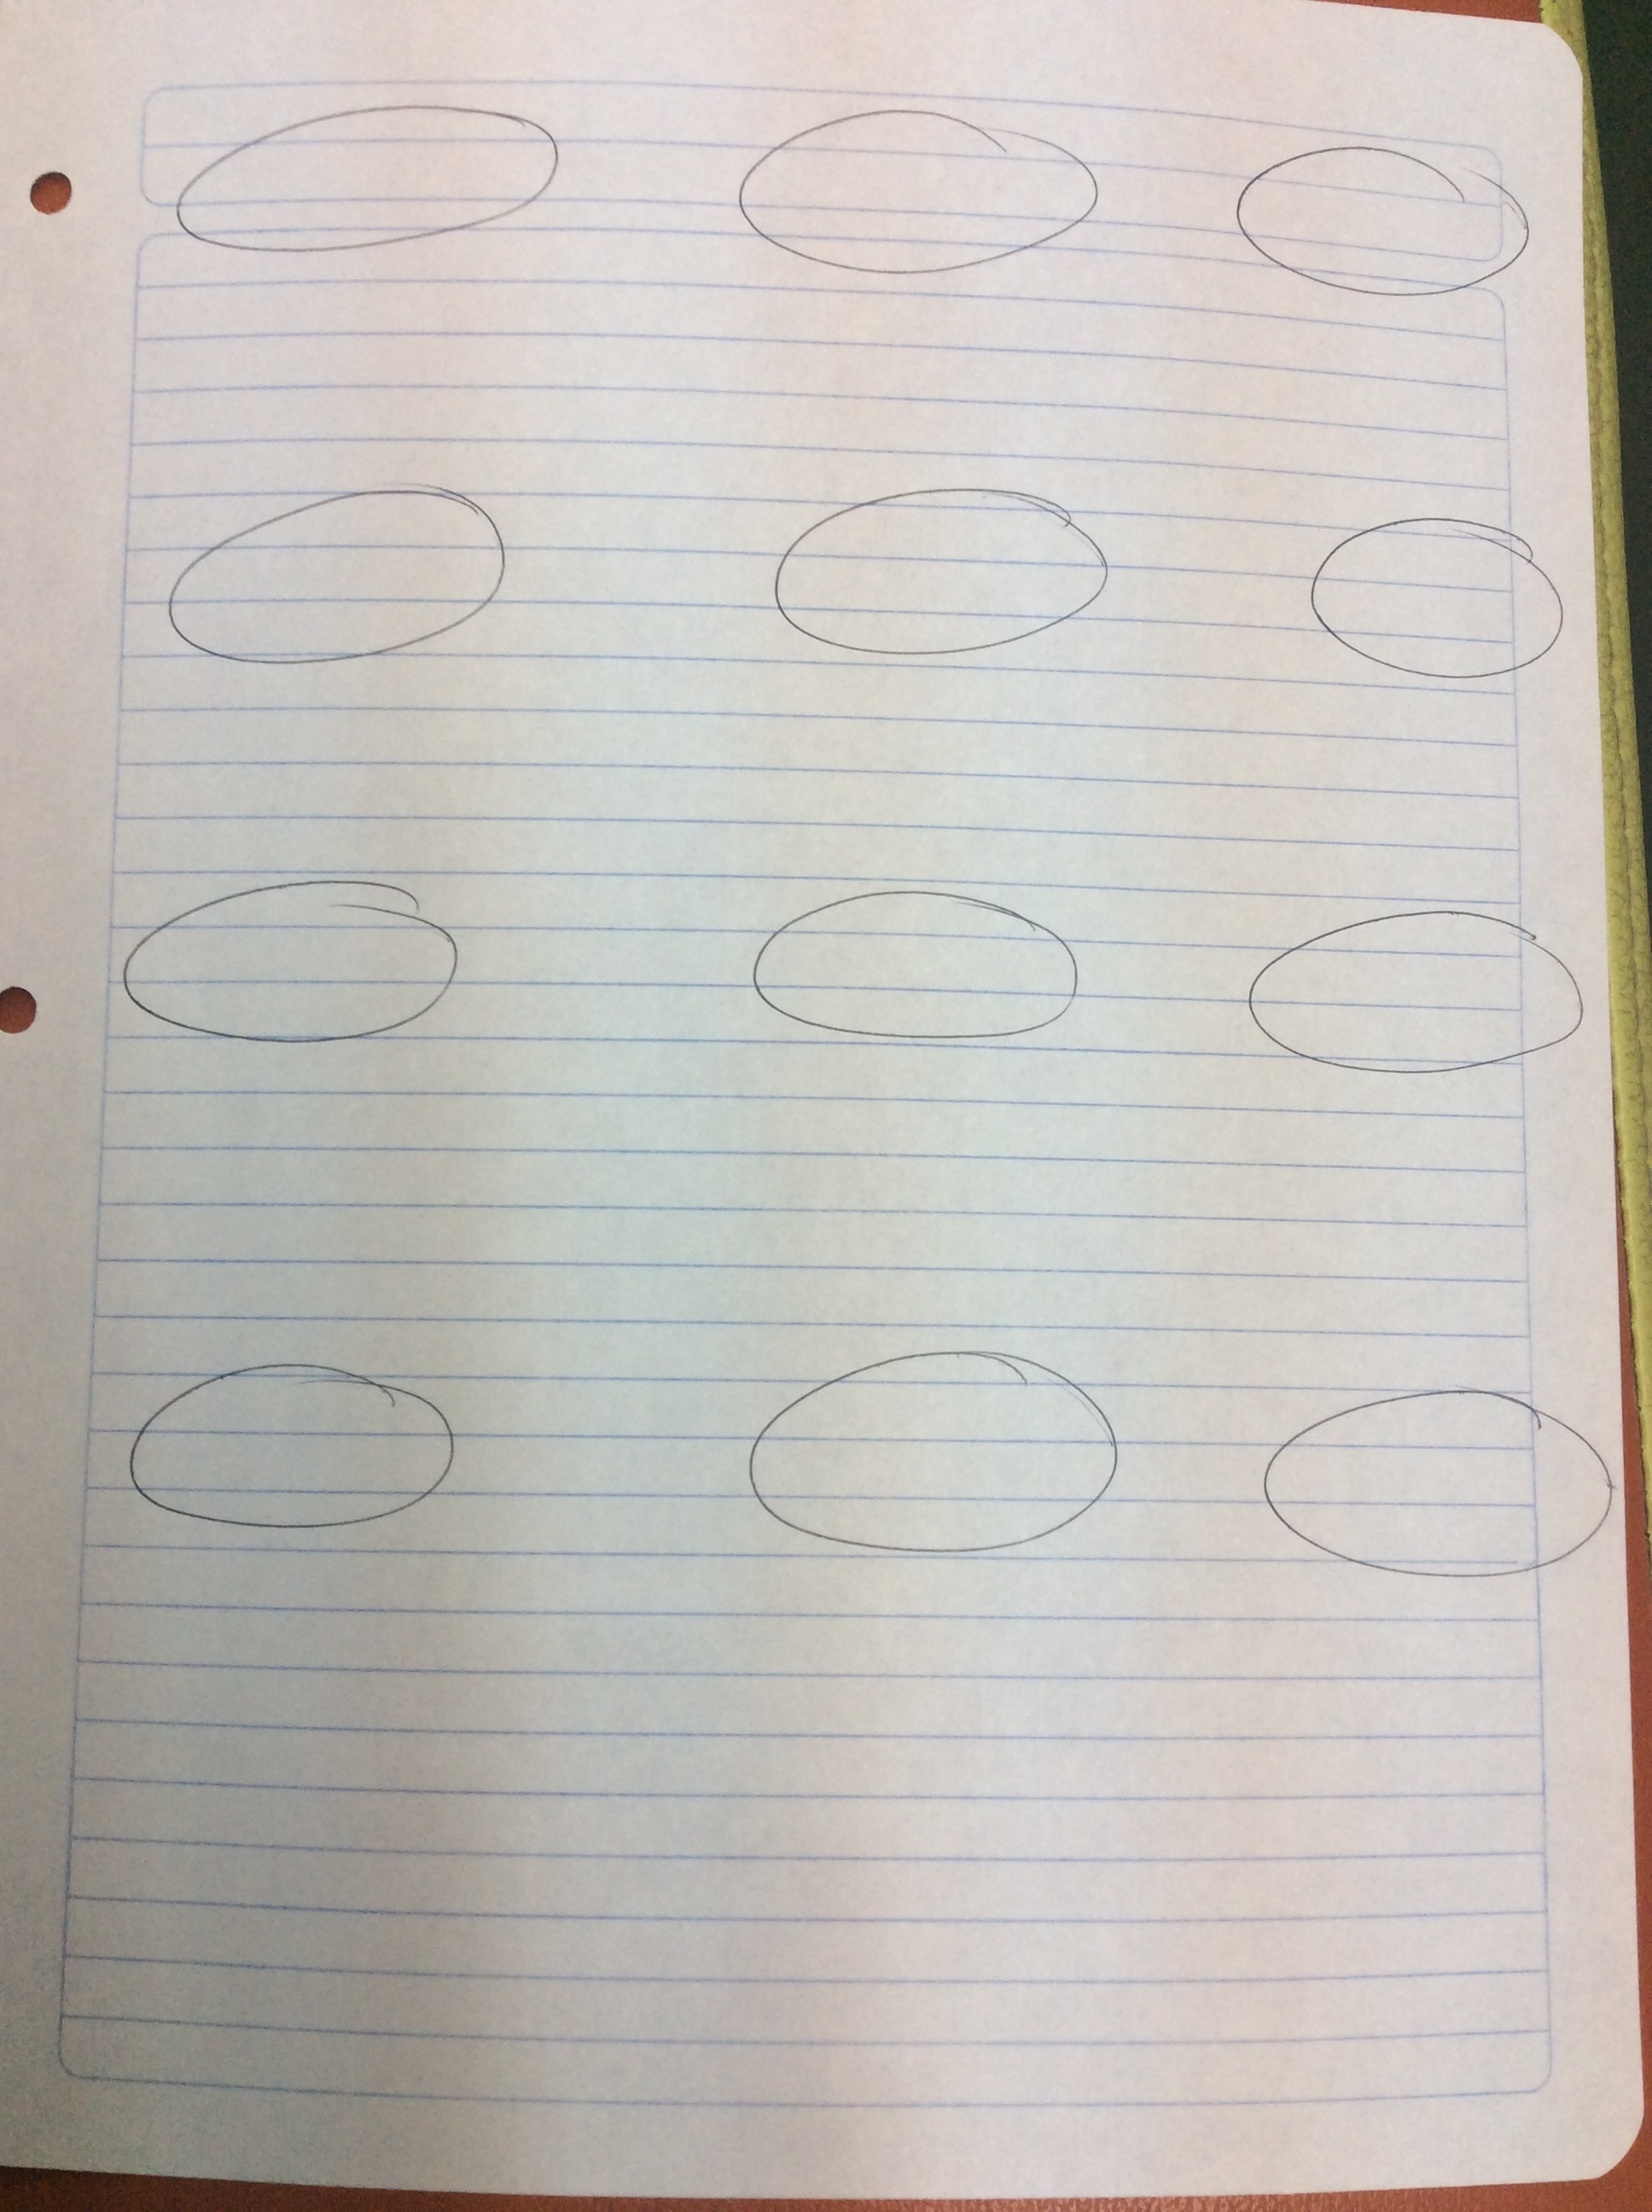start_end: (715, 1317, 1149, 1594), (1244, 1338, 1616, 1615), (125, 455, 534, 699), (743, 455, 1135, 696), (708, 78, 1114, 304), (135, 88, 585, 279), (115, 1334, 493, 1560), (1223, 881, 1593, 1112), (1216, 109, 1548, 356), (725, 864, 1097, 1083), (118, 843, 472, 1072), (1282, 474, 1579, 720)
